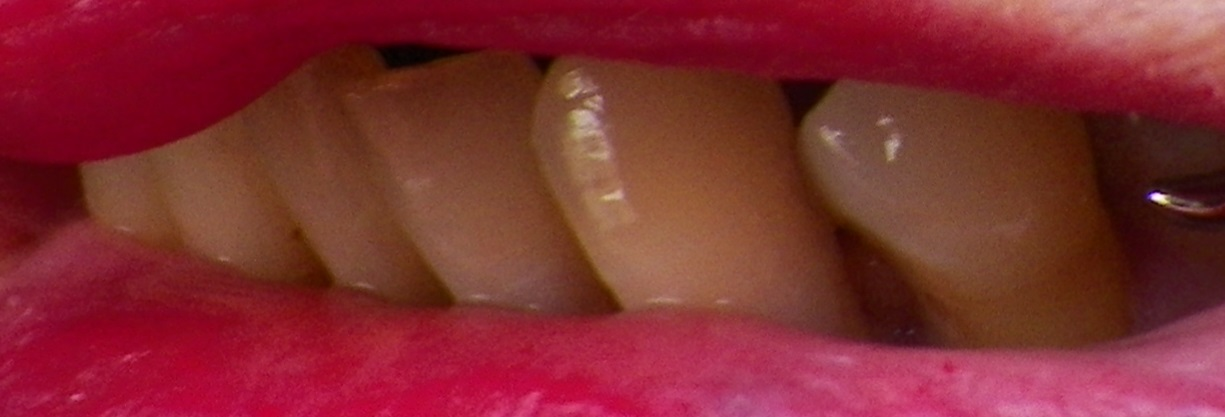boca: (72, 69, 1134, 300)
